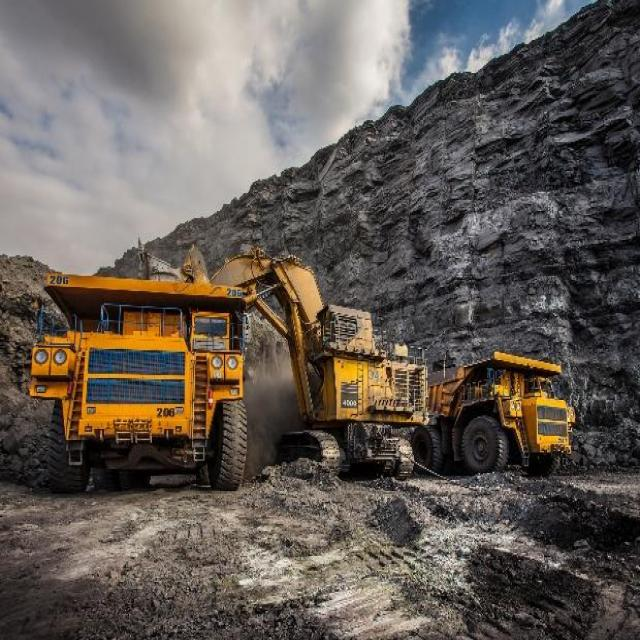dump_truck: (30, 270, 244, 487), (437, 349, 574, 471)
excavator: (140, 241, 430, 477)
